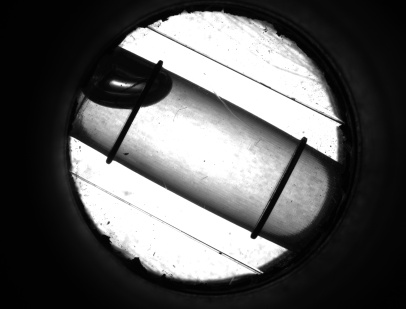line: (256, 159, 300, 217), (110, 115, 139, 144)
